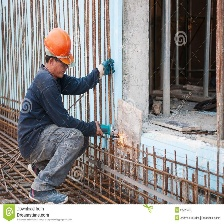helmet: (44, 27, 71, 63)
no-vest: (18, 70, 70, 158)
person: (17, 25, 84, 204)
